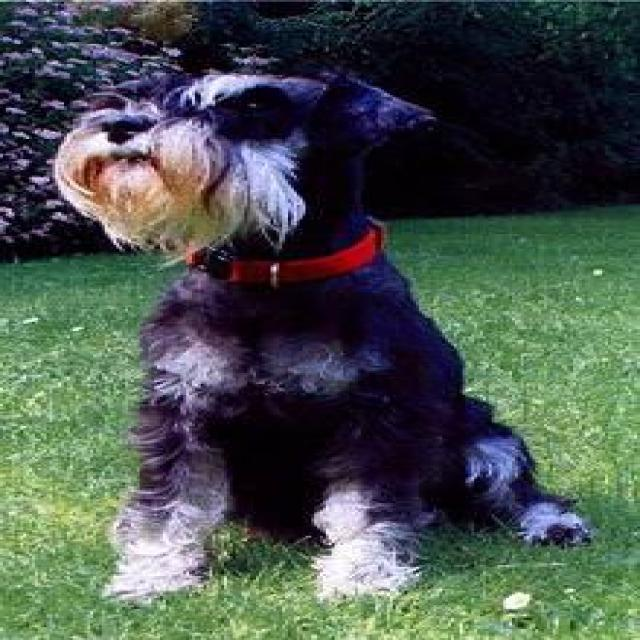standard_schnauzer: (38, 46, 605, 603)
